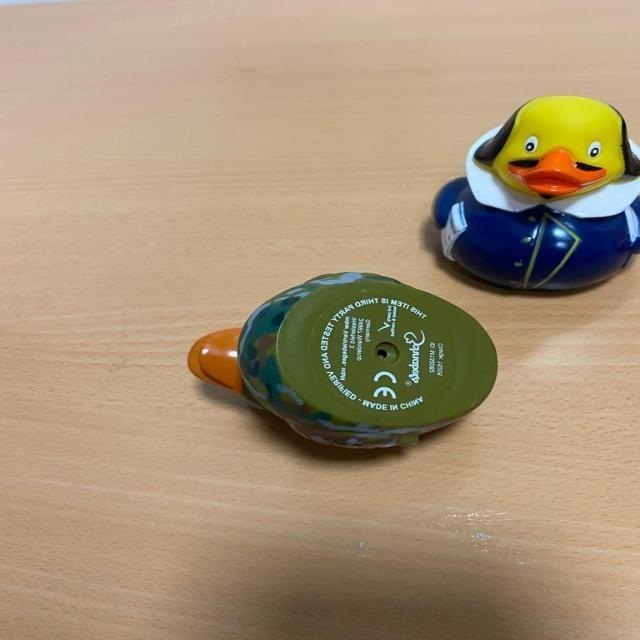rubber-duck: (187, 272, 495, 446), (432, 95, 638, 289)
